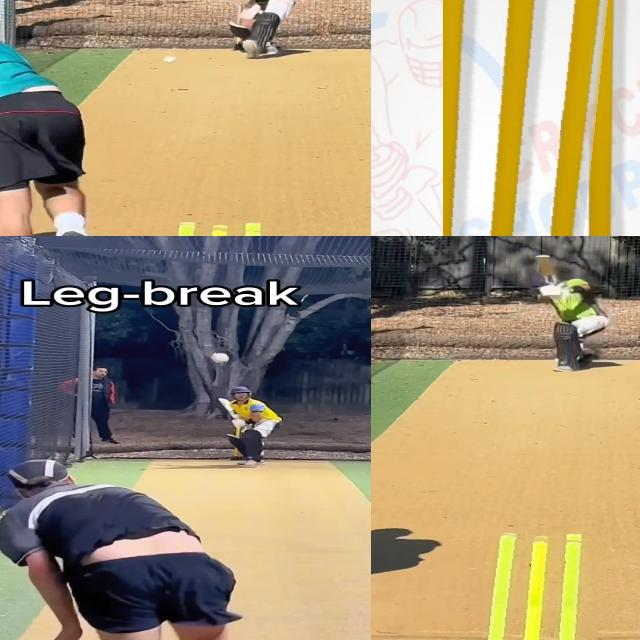Cricket ball: (210, 351, 231, 363), (163, 54, 180, 64)
Stumps: (443, 0, 622, 236), (482, 531, 607, 640)
